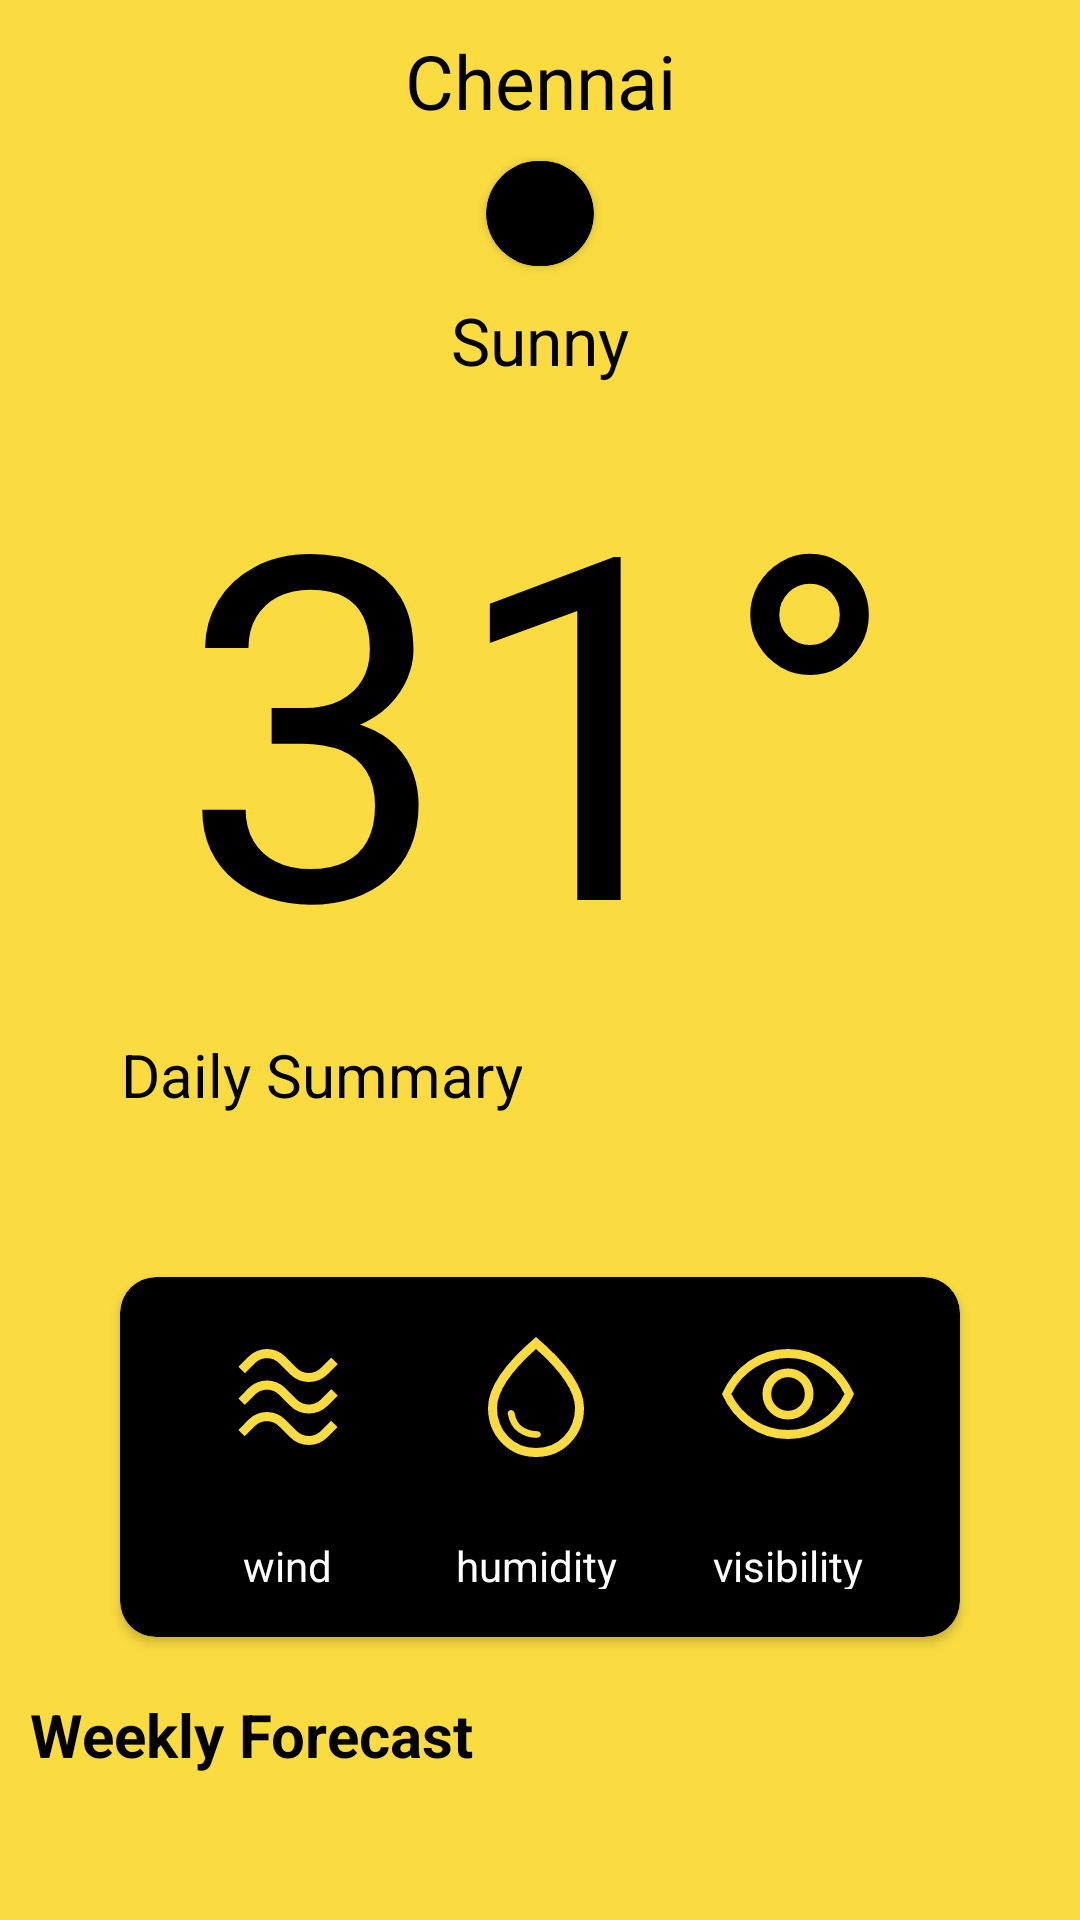

Icon bounding boxes for this 1080x1920 phone screenshot, format (x1, y1, x2, y2):
airewave: (238, 1349, 338, 1445)
water drop: (488, 1337, 584, 1457)
